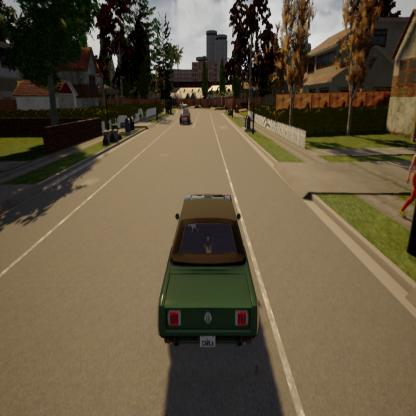Cars: (150, 188, 267, 359), (177, 106, 193, 128)
Pedestrian: (394, 136, 416, 227)
